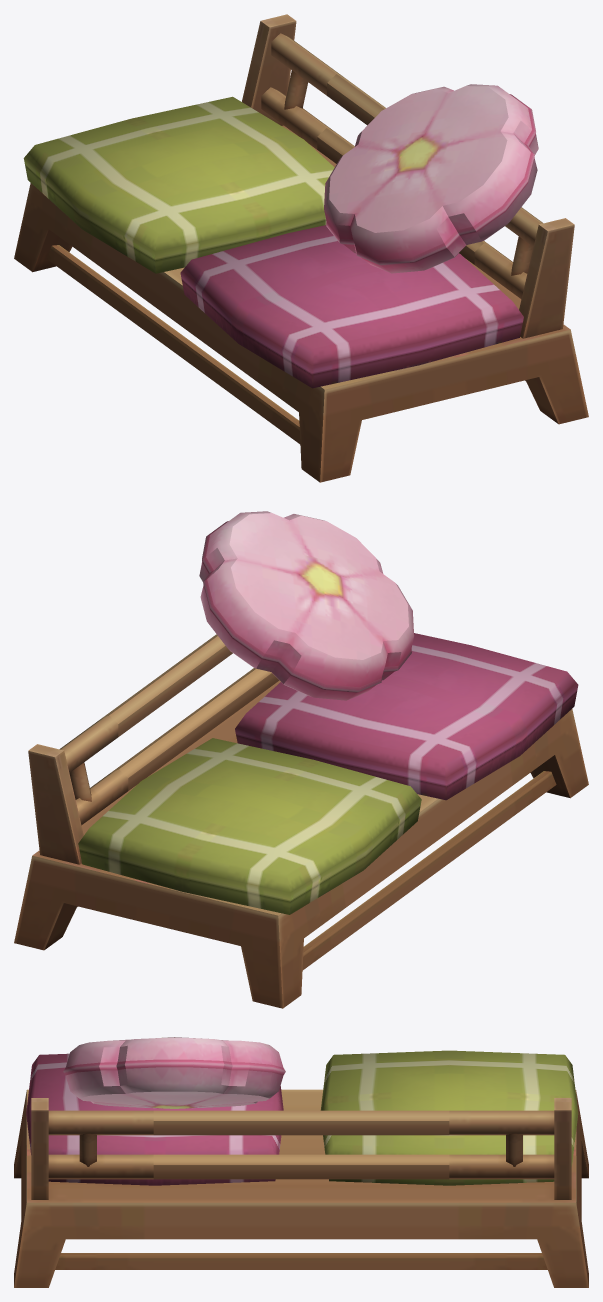
File: my_hyakkiyako_01_cushionbench_01.glb
3 renders of one model, top to bottom at view 1: azimuth 30°, elevation 25°; view 2: azimuth 150°, elevation 25°; view 3: azimuth 270°, elevation 25°, orthographic. The views are drawn at different scales.
Parts seen in each view (by area): view 1: my_hyakkiyako_01_cushionbench_01; view 2: my_hyakkiyako_01_cushionbench_01; view 3: my_hyakkiyako_01_cushionbench_01.
Part boxes in pixels (x1,y1,x2,y2): my_hyakkiyako_01_cushionbench_01: (14, 14, 588, 482); my_hyakkiyako_01_cushionbench_01: (14, 511, 588, 1008); my_hyakkiyako_01_cushionbench_01: (14, 1037, 588, 1287).
Size of the model in its own units: 0.00441 by 0.00369 by 0.0078.
2 materials, 2 textured.
